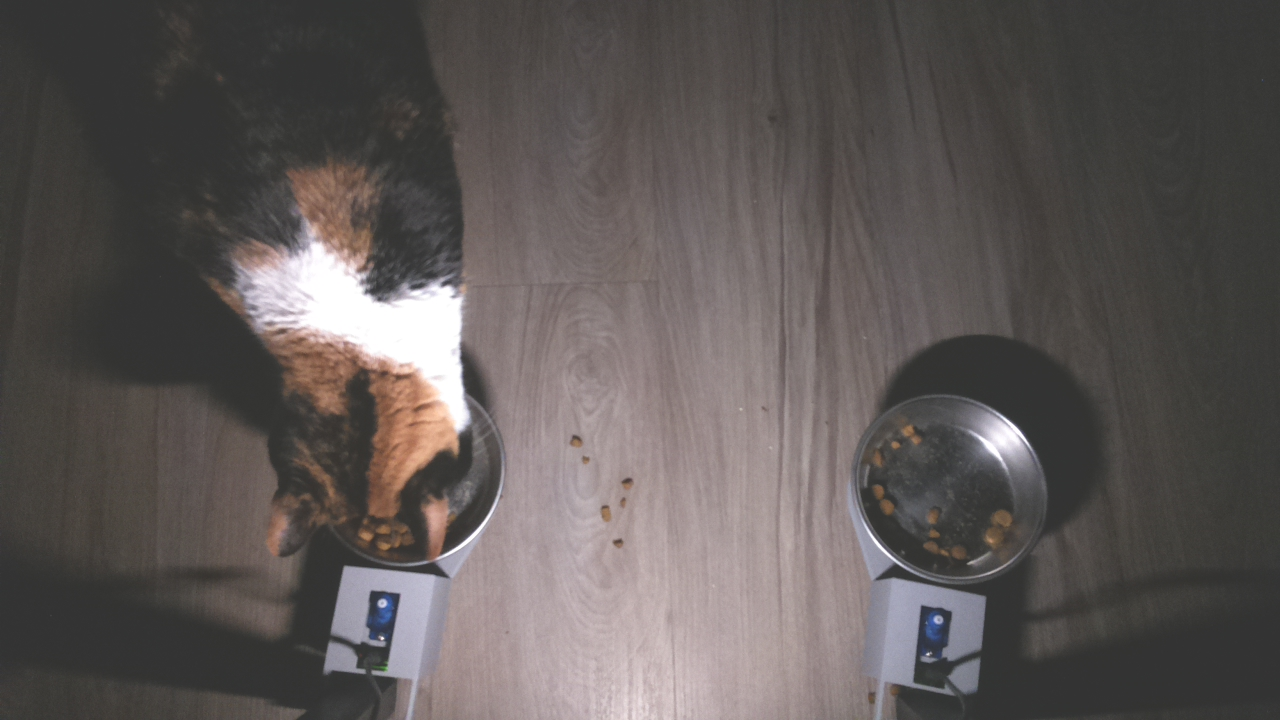bella_eating: (255, 273, 529, 584)
open_bowl: (848, 386, 1057, 591)
